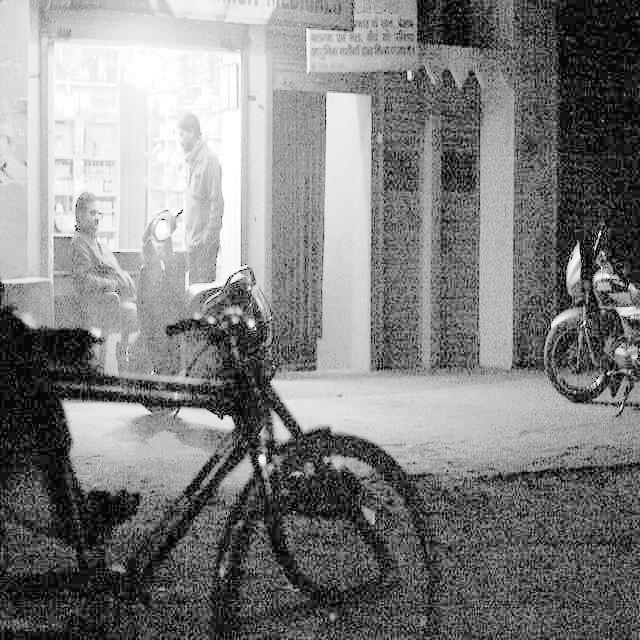Motorcycle: (139, 203, 289, 450), (534, 211, 640, 424)
